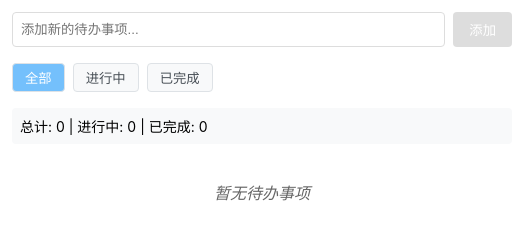
Test: TodoList组件 › 添加待办事项 › 应该能够添加新的待办事项
Type "新的待办事项" into the field with test id "new-todo-input" at (229, 30), box top-left (12, 12), bottom-right (445, 47)
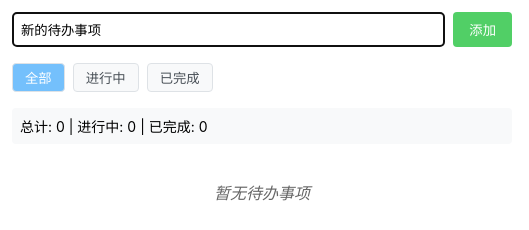
Click the button with test id "add-todo-button" at (483, 30), box top-left (453, 12), bottom-right (512, 47)
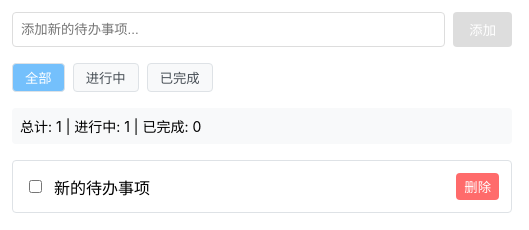
Expected: the text "新的待办事项" is shown, top-left (54, 178), bottom-right (150, 198)
